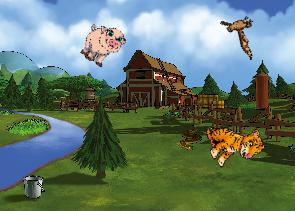eagle: (211, 5, 270, 60)
pig: (75, 17, 129, 72)
tiger: (200, 110, 267, 173)
